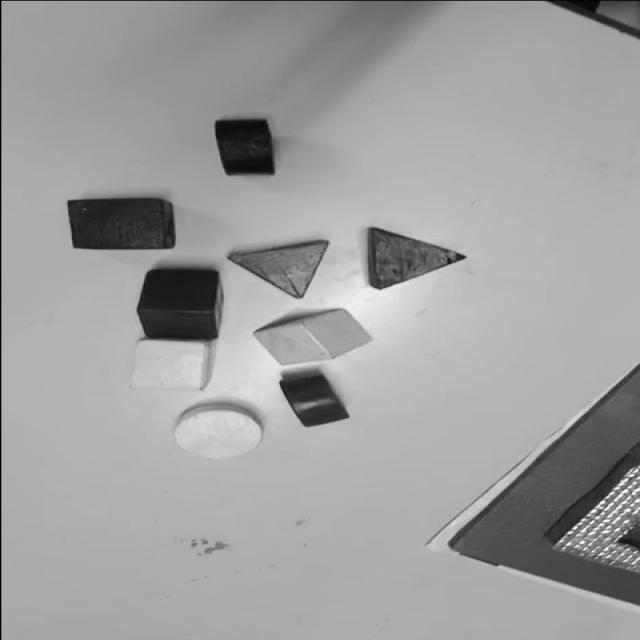bcircle: (212, 118, 278, 177)
bcube: (66, 198, 175, 250)
btriangle: (366, 228, 465, 290)
rcircle: (278, 373, 348, 428)
rcube: (136, 268, 222, 339)
rtriangle: (227, 240, 329, 298)
ycircle: (172, 402, 264, 458)
ycube: (127, 339, 214, 391)
ytriangle: (252, 308, 370, 366)
